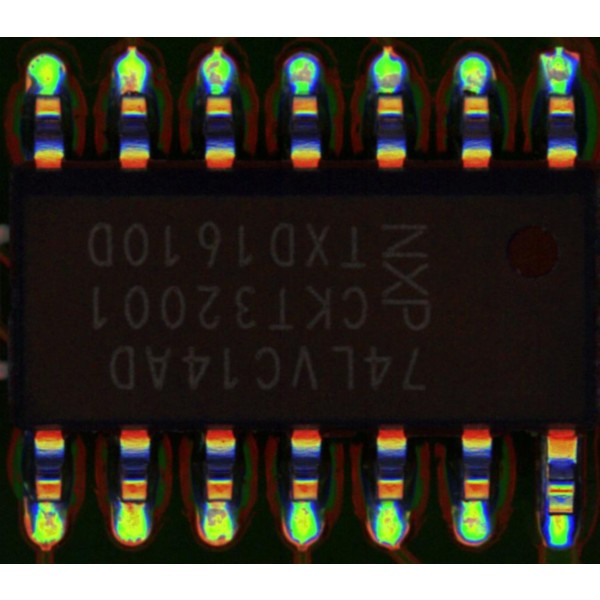Bad_podu: (125, 73, 141, 106), (548, 503, 570, 525)
